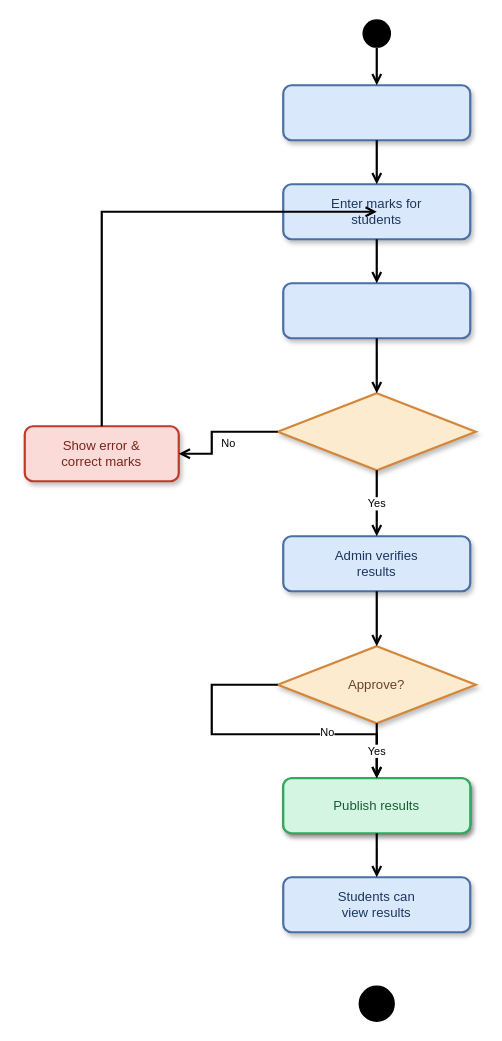
This 502x1041 diagram has some shape labels left out. Here are the shapes that lost their labels. From the top down, the centre of each, then its label:
At point 377,113: "Select class & subject".
At point 377,311: "Submit results (as draft)".
At point 377,433: "Marks valid?".
